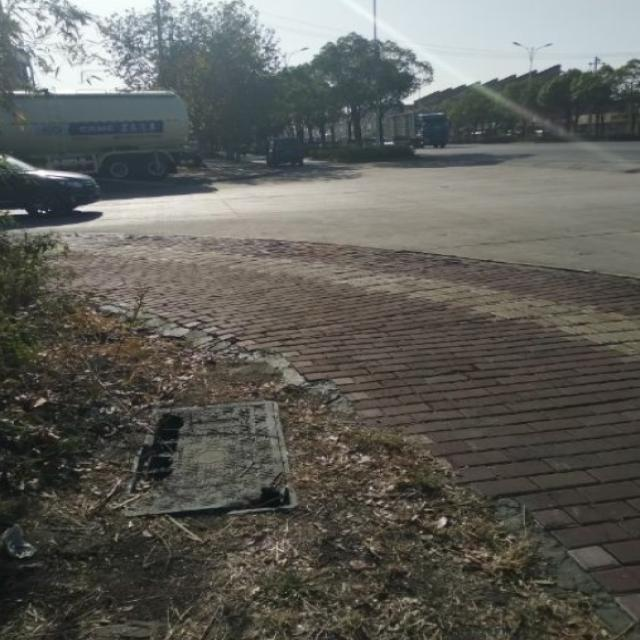Broken: (112, 388, 325, 520)
